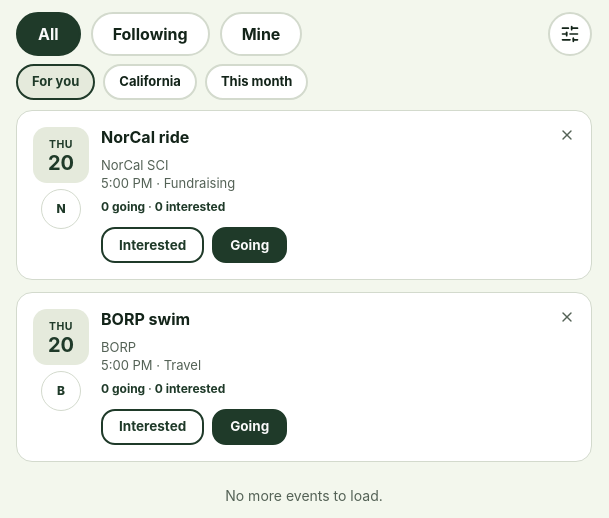
Test: EventsPage › shows only events from organizations the viewer follows in Following
Expected: the heading "NorCal ride" is shown, [101, 127, 189, 147]
Click the tab "Following" at (150, 34), box [91, 12, 210, 56]
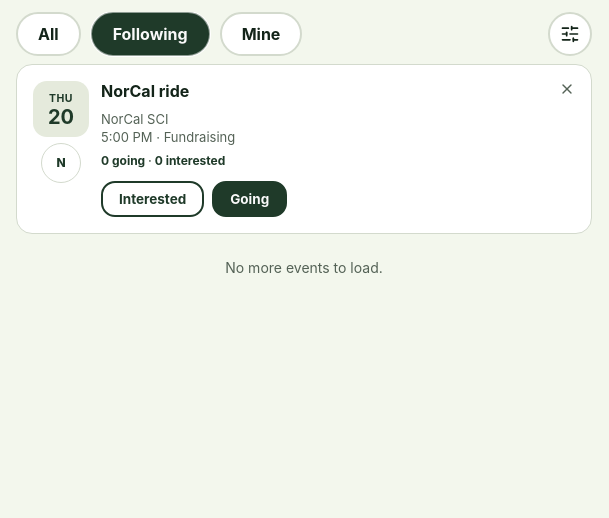
Expected: the heading "NorCal ride" is shown, [101, 81, 189, 101]
Now the button "BORP swim" is gone
